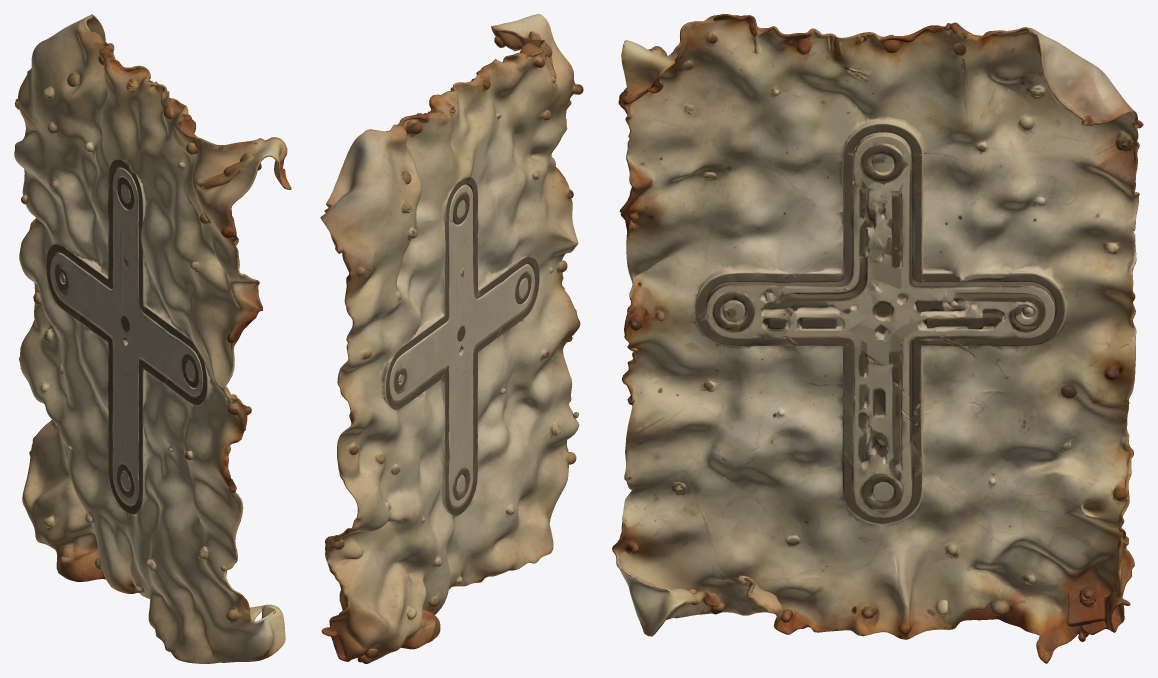
The model's file is poster_2.glb.
3 renders of one model, left to right at view 1: azimuth 30°, elevation 25°; view 2: azimuth 150°, elevation 25°; view 3: azimuth 270°, elevation 25°, orthographic. The views are drawn at different scales.
Visible parts, largest first — view 1: tripo_node_f1dec8d8-2404-4197-add8-c25eab82d9e6; view 2: tripo_node_f1dec8d8-2404-4197-add8-c25eab82d9e6; view 3: tripo_node_f1dec8d8-2404-4197-add8-c25eab82d9e6.
Part boxes in pixels (x1,y1,x2,y2): tripo_node_f1dec8d8-2404-4197-add8-c25eab82d9e6: (14, 14, 291, 663); tripo_node_f1dec8d8-2404-4197-add8-c25eab82d9e6: (320, 14, 583, 663); tripo_node_f1dec8d8-2404-4197-add8-c25eab82d9e6: (612, 14, 1143, 663).
Size of the model in its own units: 0.1601 by 0.9786 by 0.7477.
1 material, 1 textured.
